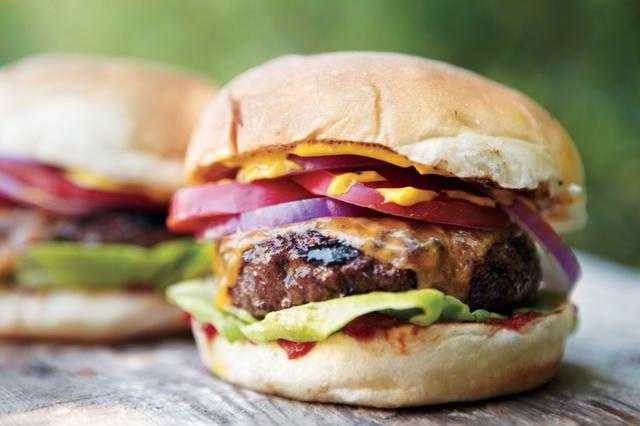hamburger: (181, 53, 601, 395), (1, 45, 222, 348)
